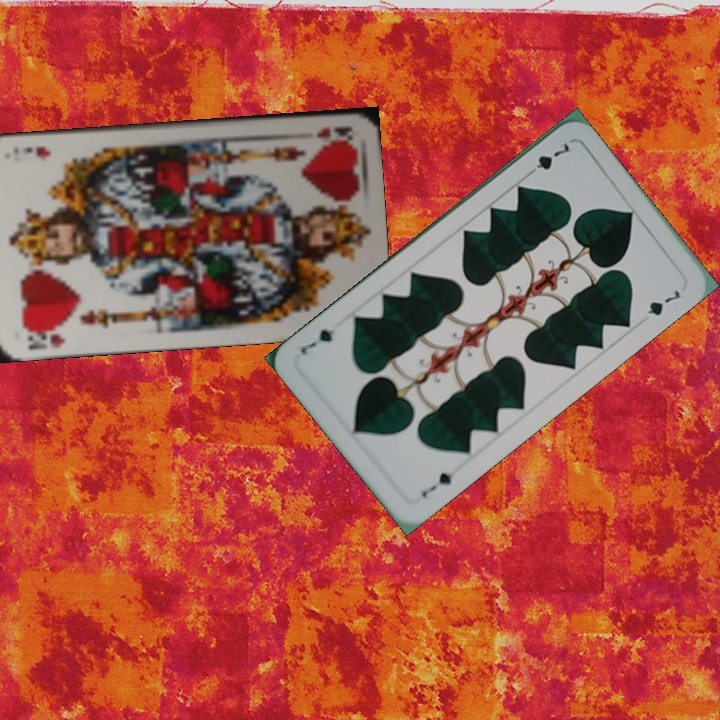G7: (522, 139, 575, 180), (417, 468, 455, 501)
HK: (18, 322, 68, 352), (313, 122, 354, 143)
